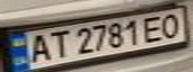1: (121, 17, 145, 46)
2: (72, 25, 93, 56)
7: (90, 21, 109, 52)
8: (106, 19, 127, 49)
A: (21, 31, 54, 64)
E: (139, 12, 169, 43)
O: (157, 11, 184, 39)
T: (45, 28, 72, 60)
